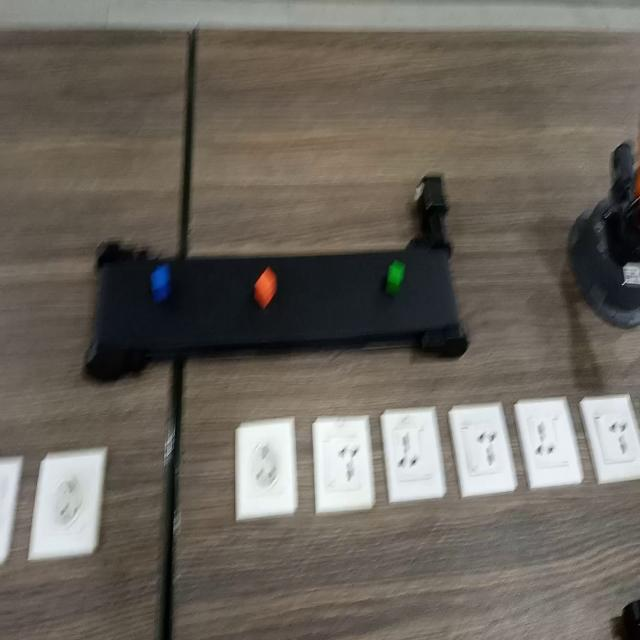cube: (384, 254, 408, 297), (150, 258, 172, 302)
